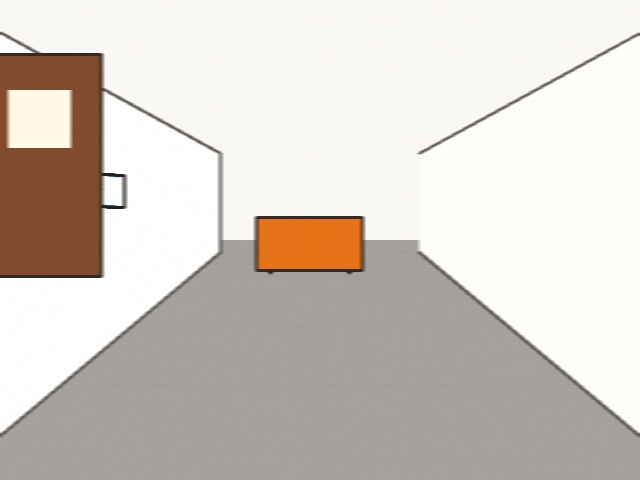cart: (256, 217, 362, 270)
directional_sign: (51, 171, 124, 207)
door: (0, 54, 101, 276)
